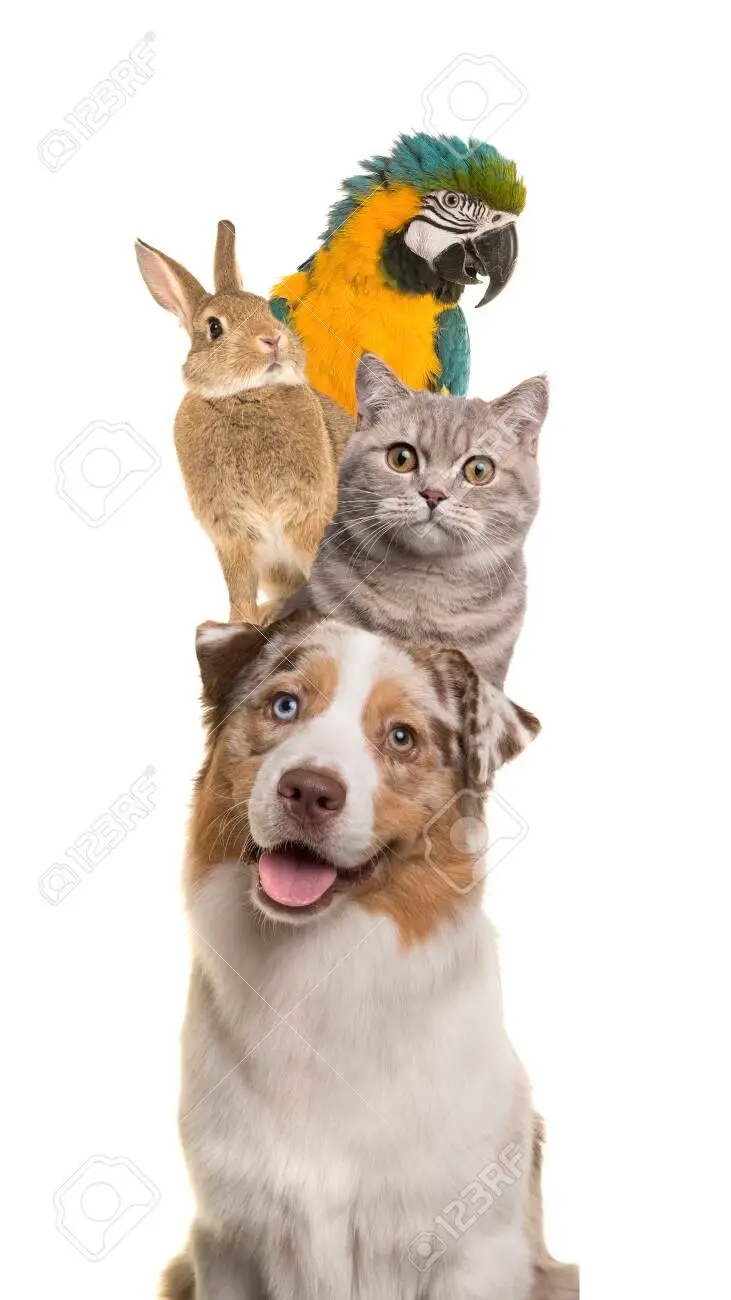cat: (355, 357, 551, 611)
dog: (172, 624, 559, 1252)
rabbit: (111, 228, 326, 595)
